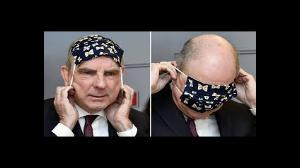mask_weared_incorrect: (184, 57, 236, 121), (73, 48, 123, 110)
